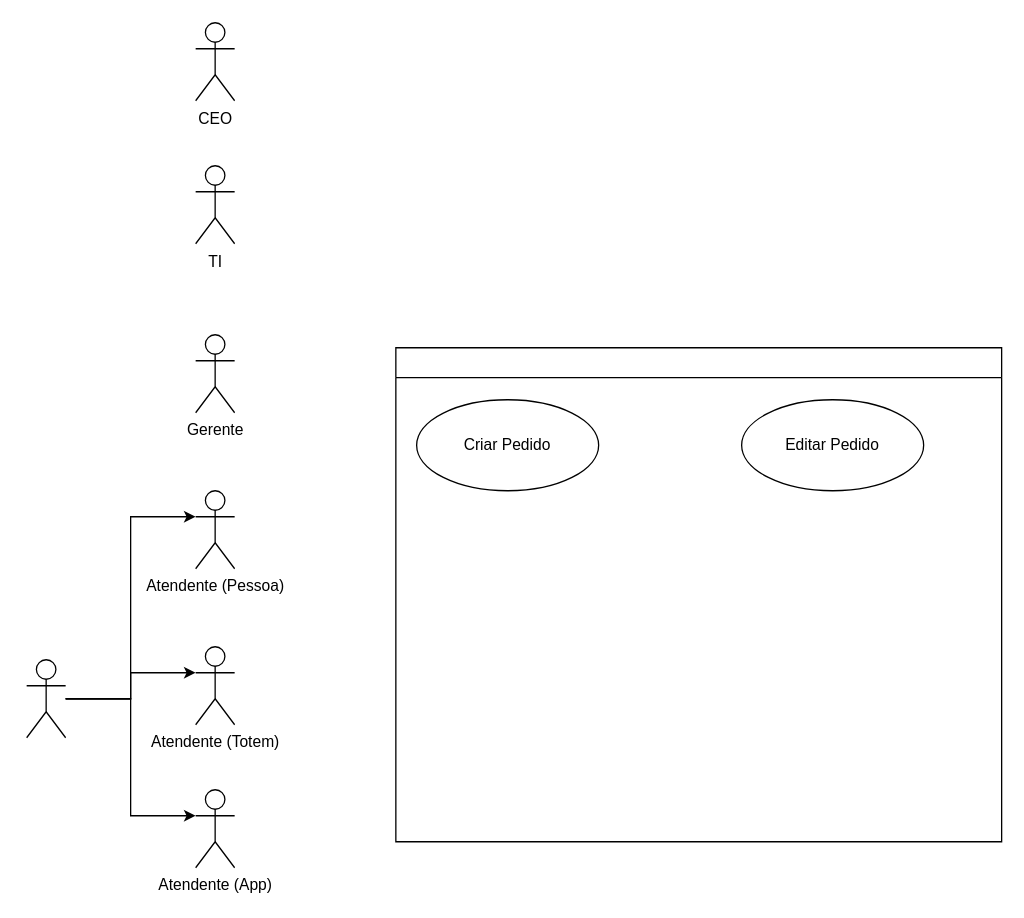
Some shapes in this 1024 by 918 pixel diagram are drawn without their labels. The box of each missing label's shape, as (x1, y1, x2, y2) in pixels:
Cliente: (25, 658, 66, 738)
Pedidos: (395, 346, 1002, 842)
